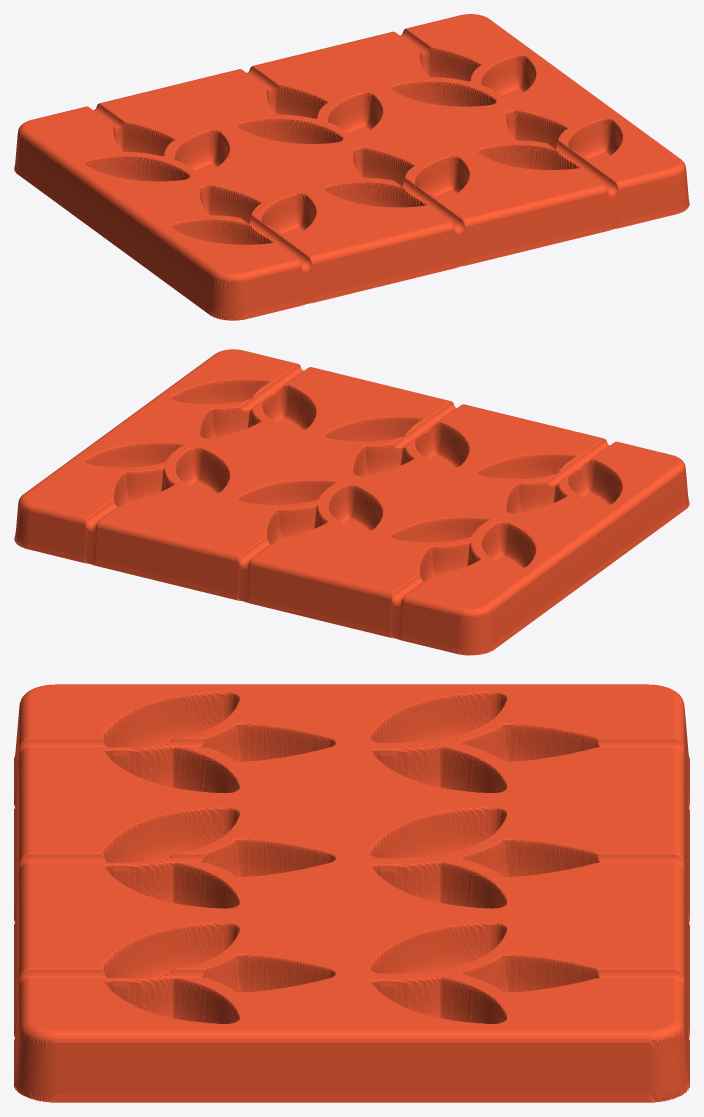
The model's file is mold.glb.
3 views of the same model, one above another, from view 1: azimuth 30°, elevation 25°; view 2: azimuth 150°, elevation 25°; view 3: azimuth 270°, elevation 25° (orthographic). The views are drawn at different scales.
Parts seen in each view (by area): view 1: geometry_0; view 2: geometry_0; view 3: geometry_0.
Boxes of the visible parts, x1,y1,x2,y2 form: geometry_0: (14,14,689,320); geometry_0: (14,349,689,655); geometry_0: (14,684,689,1102).
Bounding box in the file's own units: 0.1824 × 0.0155 × 0.1453.
